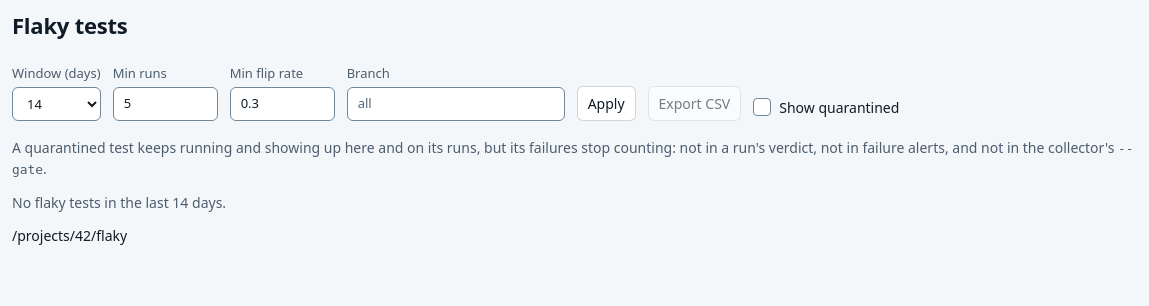
Test: Flaky › changes update the URL
The width and height of the screenshot is (1149, 306).
Step 1. Select "30" in the dropdown labelled "Window (days)" → (56, 104), box top-left (12, 87), bottom-right (101, 121)
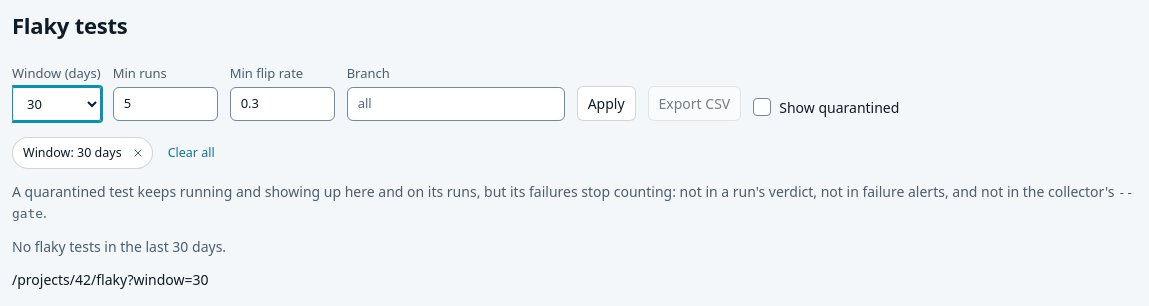
Expected: the text with test id "where" reads "/projects/42/flaky?window=30", top-left (12, 270), bottom-right (209, 289)
Step 2. Click the checkbox labelled "Show quarantined" → (762, 107), box top-left (753, 98), bottom-right (771, 116)
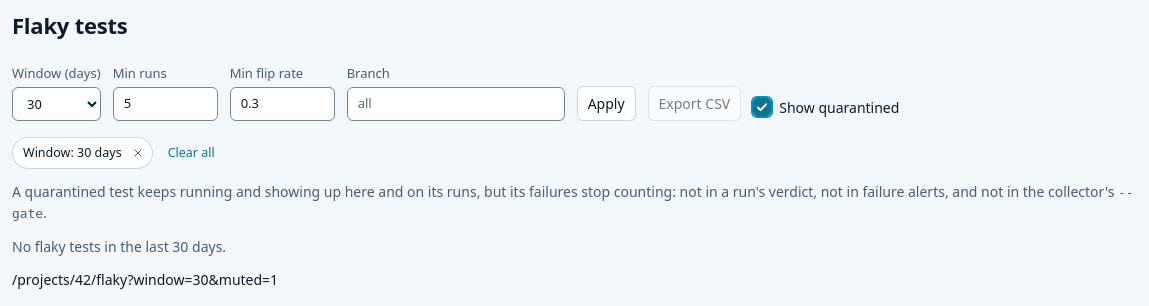
Expected: the text with test id "where" reads "/projects/42/flaky?window=30&muted=1", top-left (12, 270), bottom-right (278, 289)
